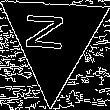N_E: (30, 18, 77, 60)
